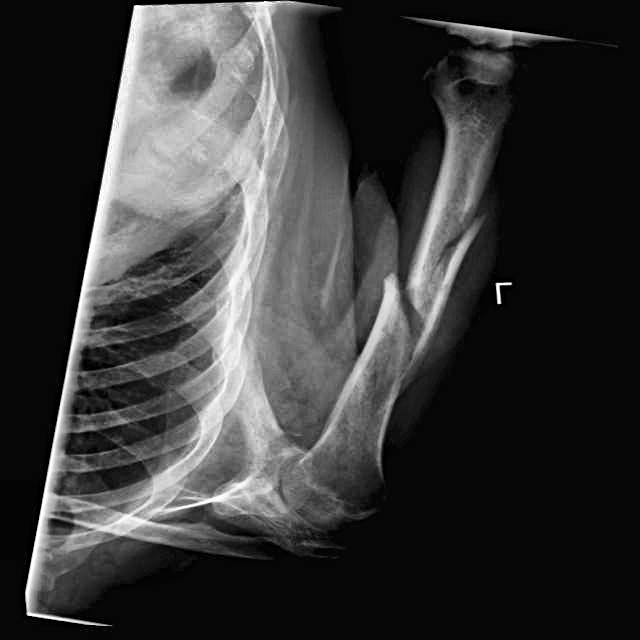Spiral: (356, 200, 491, 367)
